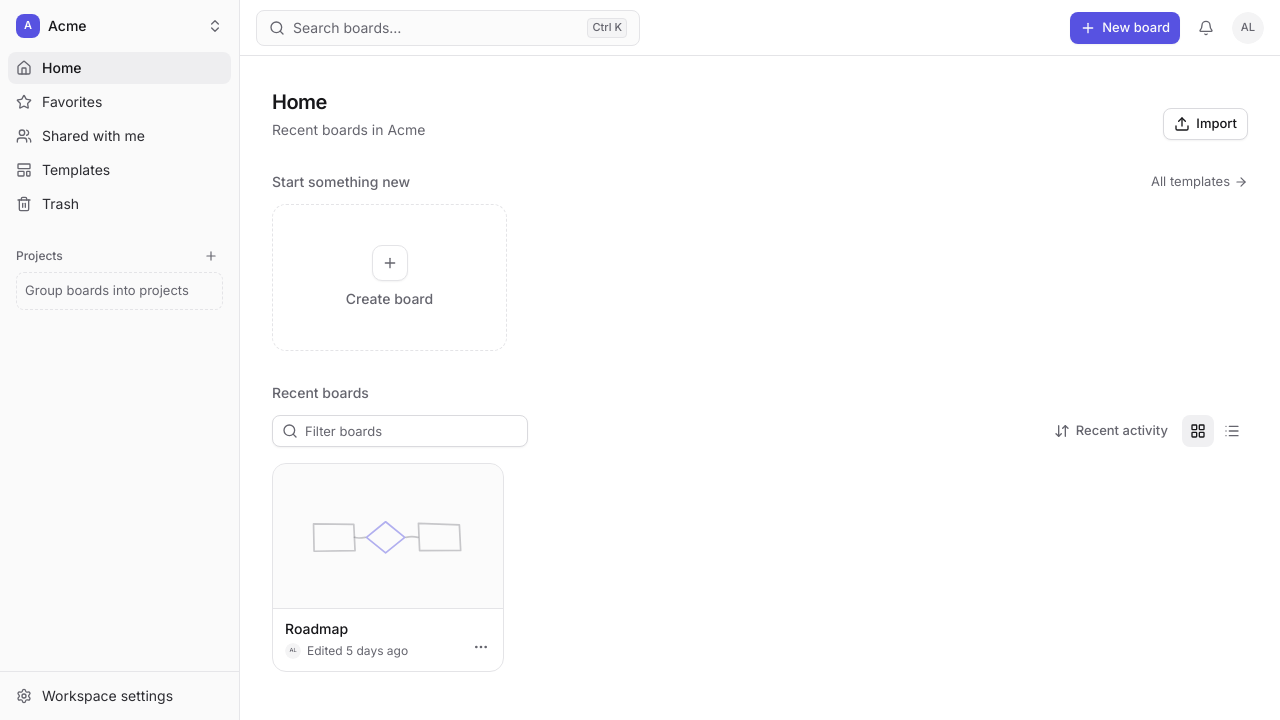
dashboard board list › opens the share dialog from the board menu
What coordinates should you click on to do the following:
click the button with test id "board-card-menu"
I would click on:
 (481, 647)
Its box is x1=465 y1=631 x2=497 y2=663.
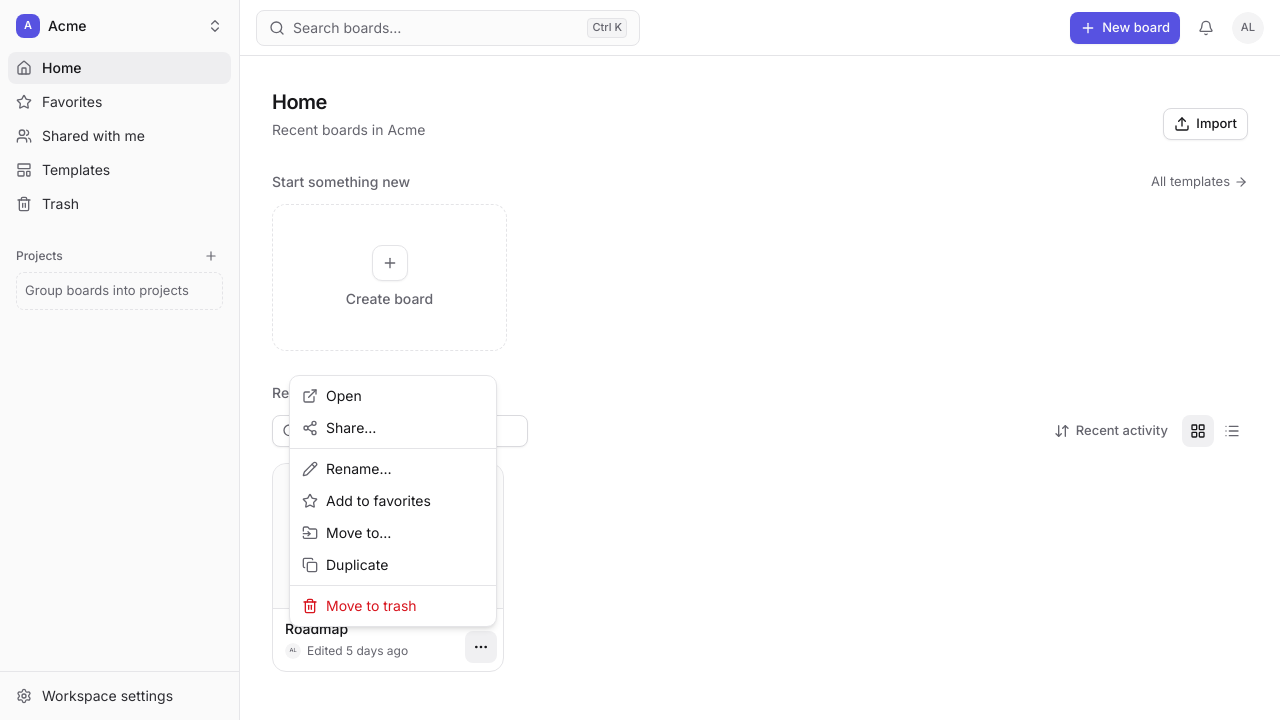
What coordinates should you click on to do the following:
click the menu item with test id "board-menu-share"
I would click on:
 (339, 428)
Its box is x1=302 y1=419 x2=376 y2=436.
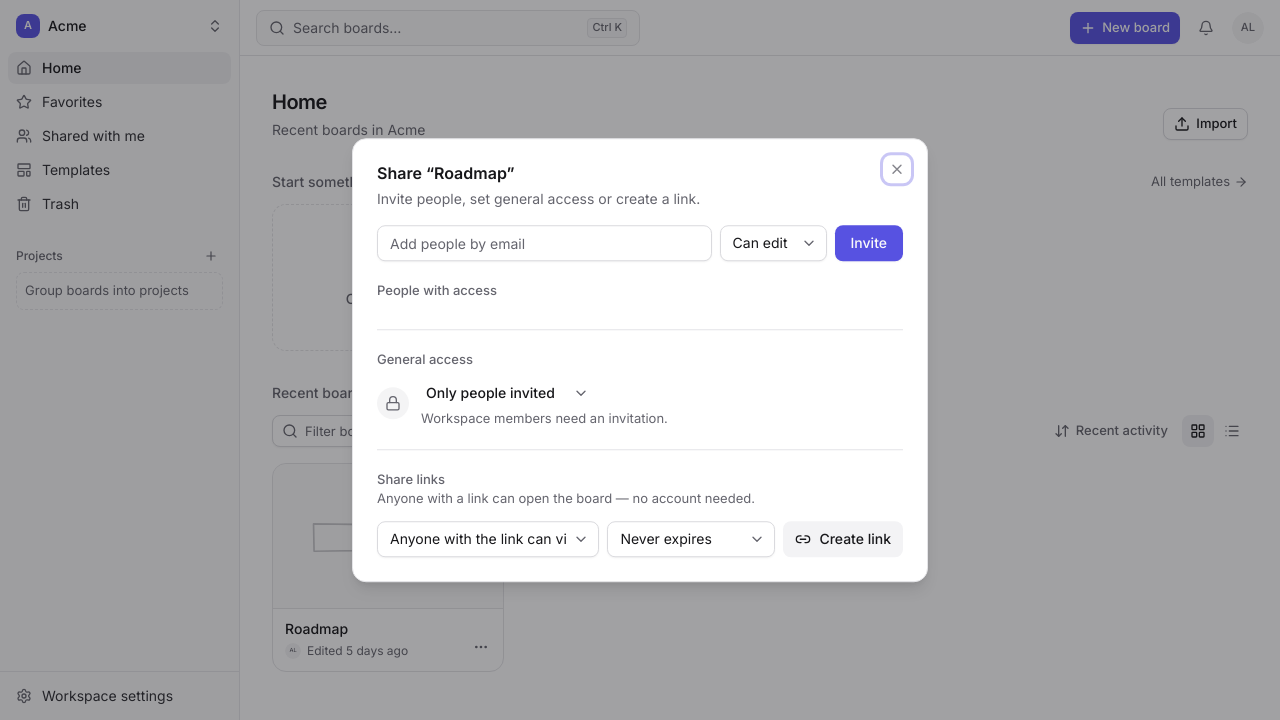
Now the dialog "Share “Roadmap”" is shown, box x1=352 y1=138 x2=928 y2=582
